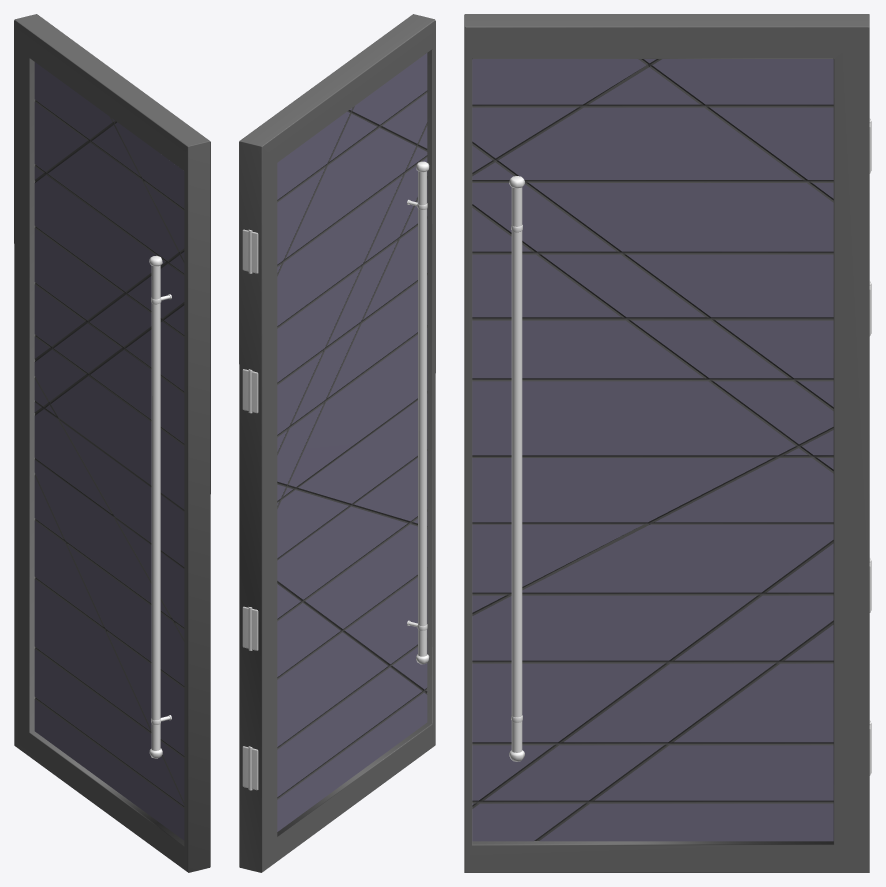
3 renders of one model, left to right at view 1: azimuth 30°, elevation 25°; view 2: azimuth 150°, elevation 25°; view 3: azimuth 270°, elevation 25°, orthographic. The views are drawn at different scales.
Visible parts, largest first — view 1: SM_H_Building_FutureTech_Dock_06a_Door_R; view 2: SM_H_Building_FutureTech_Dock_06a_Door_R; view 3: SM_H_Building_FutureTech_Dock_06a_Door_R.
Part boxes in pixels (<box>): SM_H_Building_FutureTech_Dock_06a_Door_R: <box>14,14,210,872</box>; SM_H_Building_FutureTech_Dock_06a_Door_R: <box>239,14,435,872</box>; SM_H_Building_FutureTech_Dock_06a_Door_R: <box>464,14,871,872</box>.
Size of the model in its own units: 57.75 by 10.24 by 133.
